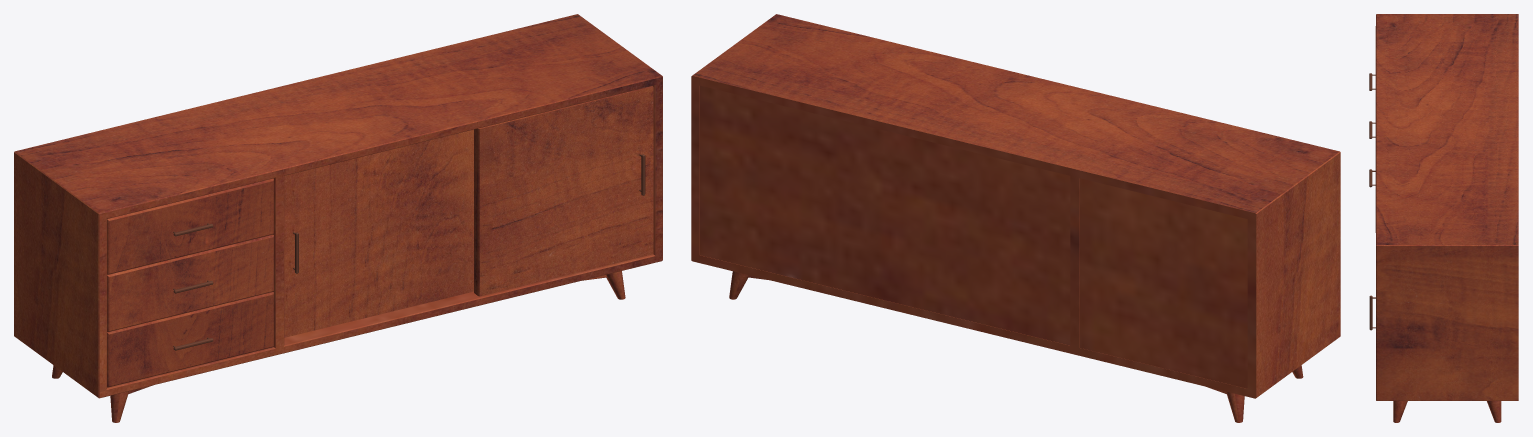
3 views of the same model, side by side, from view 1: azimuth 30°, elevation 25°; view 2: azimuth 150°, elevation 25°; view 3: azimuth 270°, elevation 25° (orthographic). The views are drawn at different scales.
Parts seen in each view (by area): view 1: pCube7_Malla, pCube13_Malla.001; view 2: pCube7_Malla; view 3: pCube7_Malla, pCube13_Malla.001.
Part boxes in pixels (x1,y1,x2,y2): pCube7_Malla: (14,14,662,422); pCube13_Malla.001: (173,154,645,350); pCube7_Malla: (691,14,1340,422); pCube7_Malla: (1375,14,1518,422); pCube13_Malla.001: (1369,73,1375,330).
Bounding box in the file's own units: 0.2672 × 0.1013 × 0.0727.
Materials: 2 (2 with a texture image).
